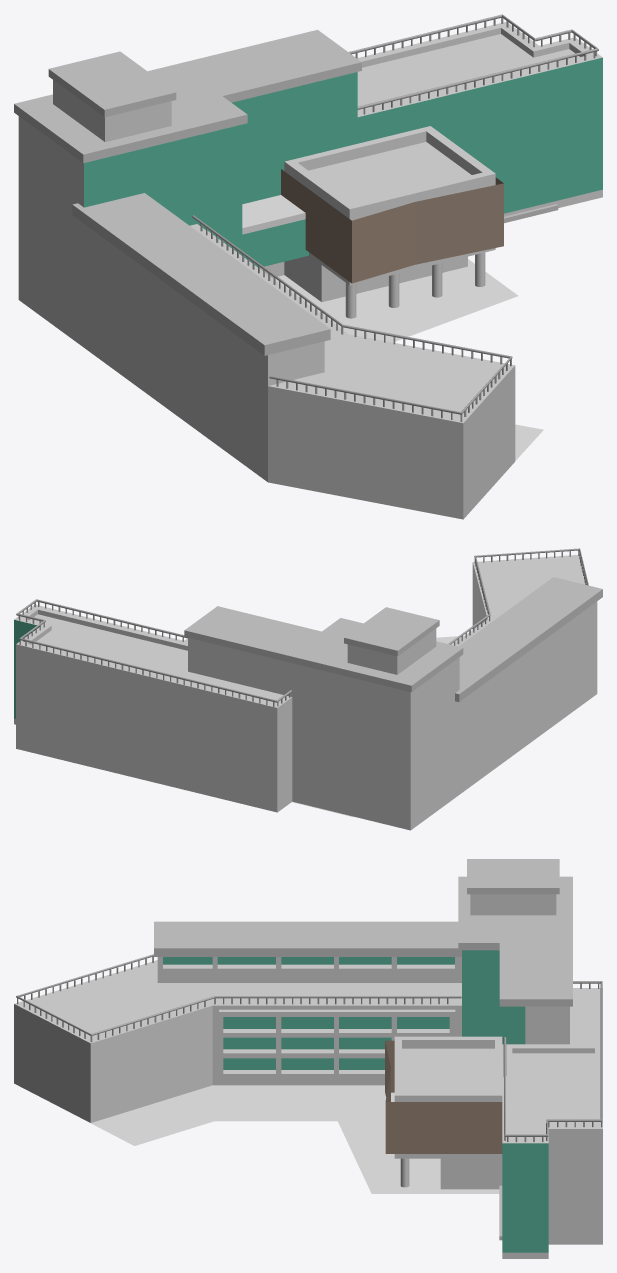
Rendered from 인문사회대.fbx.
The picture shows the model from 3 angles, top to bottom: view 1: azimuth 30°, elevation 25°; view 2: azimuth 150°, elevation 25°; view 3: azimuth 270°, elevation 25°; orthographic projection. The views are drawn at different scales.
Parts seen in each view (by area): view 1: Cube, Cube.002, Cube.003, Cube.004, Cube.001, Plane, Plane.001, Cube.008, Cube.007, Cylinder.012, Cylinder.006, Cube.006 (+1 smaller); view 2: Cube, Cube.002, Cube.003, Cube.004, Cube.008, Cube.007, Cylinder.006, Cylinder.012, Cylinder.002; view 3: Cube.002, Cube, Plane.001, Cube.004, Cube.001, Cube.003, Plane, Cube.008, Cube.007, Cylinder.012, Cylinder.006.
Boxes of the visible parts, x1,y1,x2,y2 form: Cube: (18, 21, 602, 347); Cube.002: (84, 224, 515, 519); Cube.003: (14, 29, 361, 163); Cube.004: (72, 193, 330, 355); Cube.001: (284, 126, 495, 301); Plane: (281, 169, 503, 283); Plane.001: (273, 259, 543, 460); Cube.008: (48, 51, 176, 117); Cube.007: (53, 80, 171, 141); Cylinder.012: (192, 215, 512, 414); Cylinder.006: (348, 14, 598, 109); Cube.006: (242, 195, 305, 234); Cube: (14, 605, 459, 830); Cube.002: (452, 555, 597, 794); Cube.003: (184, 606, 463, 692); Cube.004: (455, 577, 602, 701); Cube.008: (344, 607, 439, 656); Cube.007: (347, 628, 436, 674); Cylinder.006: (16, 599, 291, 702); Cylinder.012: (448, 548, 588, 644); Cylinder.002: (25, 641, 274, 706); Cube.002: (14, 957, 461, 1122); Cube: (462, 950, 602, 1258); Plane.001: (66, 1085, 499, 1193); Cube.004: (154, 921, 461, 956); Cube.001: (394, 1036, 502, 1189); Cube.003: (458, 876, 572, 1006); Plane: (385, 1040, 502, 1153); Cube.008: (467, 859, 559, 894); Cube.007: (470, 894, 556, 915); Cylinder.012: (16, 954, 461, 1035); Cylinder.006: (503, 981, 602, 1136).
Size of the model in its own units: 8377 by 3367 by 9411.
